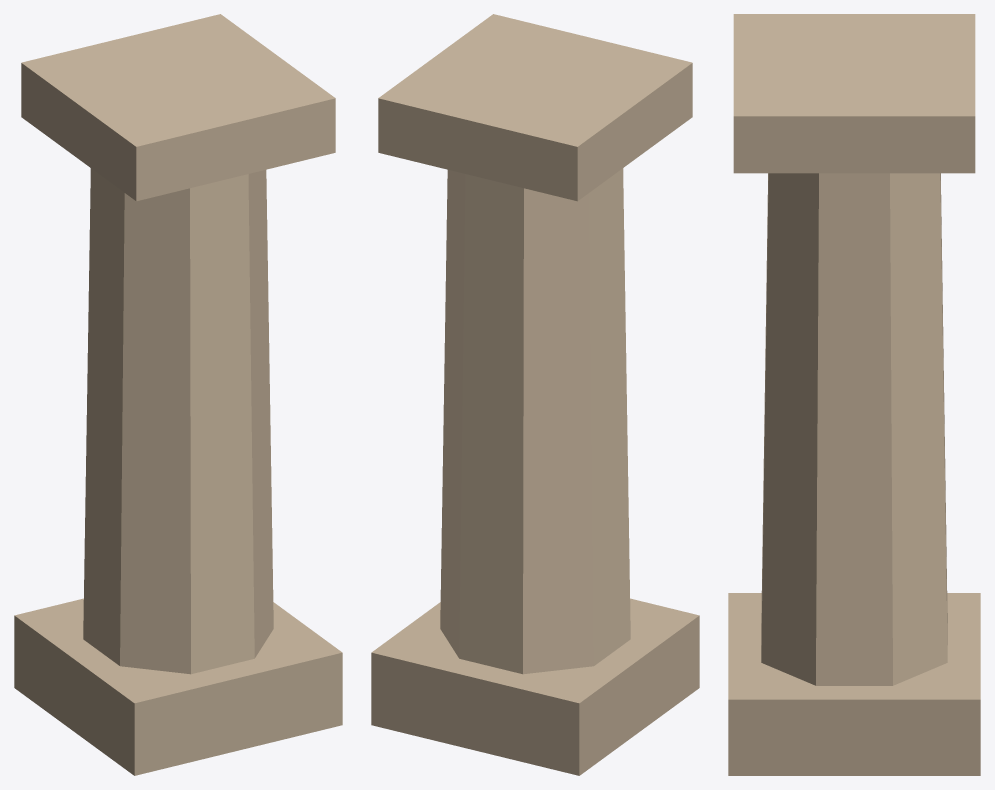
File: pillar_sandstone_pieces.glb
3 renders of one model, left to right at view 1: azimuth 30°, elevation 25°; view 2: azimuth 150°, elevation 25°; view 3: azimuth 270°, elevation 25°, orthographic. The views are drawn at different scales.
Visible parts, largest first — view 1: pillar_sandstone_piece_14, pillar_sandstone_piece_11, pillar_sandstone_piece_0, pillar_sandstone_piece_6, pillar_sandstone_piece_7, pillar_sandstone_piece_9, pillar_sandstone_piece_12, pillar_sandstone_piece_1, pillar_sandstone_piece_4, pillar_sandstone_piece_3, pillar_sandstone_piece_8, pillar_sandstone_piece_5 (+2 smaller); view 2: pillar_sandstone_piece_14, pillar_sandstone_piece_12, pillar_sandstone_piece_0, pillar_sandstone_piece_9, pillar_sandstone_piece_8, pillar_sandstone_piece_7, pillar_sandstone_piece_6, pillar_sandstone_piece_10, pillar_sandstone_piece_2, pillar_sandstone_piece_5, pillar_sandstone_piece_1, pillar_sandstone_piece_4 (+3 smaller); view 3: pillar_sandstone_piece_8, pillar_sandstone_piece_1, pillar_sandstone_piece_12, pillar_sandstone_piece_9, pillar_sandstone_piece_5, pillar_sandstone_piece_14, pillar_sandstone_piece_4, pillar_sandstone_piece_7, pillar_sandstone_piece_11, pillar_sandstone_piece_0, pillar_sandstone_piece_2, pillar_sandstone_piece_6 (+1 smaller).
Part boxes in pixels (x1,y1,x2,y2): pillar_sandstone_piece_14: [21, 49, 327, 201]; pillar_sandstone_piece_11: [84, 511, 266, 674]; pillar_sandstone_piece_0: [14, 610, 265, 775]; pillar_sandstone_piece_6: [86, 349, 269, 499]; pillar_sandstone_piece_7: [88, 222, 268, 351]; pillar_sandstone_piece_9: [90, 168, 267, 267]; pillar_sandstone_piece_12: [78, 14, 335, 156]; pillar_sandstone_piece_1: [228, 602, 342, 743]; pillar_sandstone_piece_4: [88, 297, 269, 401]; pillar_sandstone_piece_3: [85, 468, 229, 535]; pillar_sandstone_piece_8: [200, 457, 273, 620]; pillar_sandstone_piece_5: [224, 361, 270, 491]; pillar_sandstone_piece_14: [501, 16, 692, 176]; pillar_sandstone_piece_12: [378, 14, 530, 189]; pillar_sandstone_piece_0: [550, 598, 699, 775]; pillar_sandstone_piece_9: [446, 168, 623, 285]; pillar_sandstone_piece_8: [440, 458, 580, 653]; pillar_sandstone_piece_7: [445, 215, 625, 344]; pillar_sandstone_piece_6: [462, 359, 627, 495]; pillar_sandstone_piece_10: [456, 543, 600, 674]; pillar_sandstone_piece_2: [429, 657, 563, 768]; pillar_sandstone_piece_5: [443, 349, 579, 502]; pillar_sandstone_piece_1: [371, 602, 463, 747]; pillar_sandstone_piece_4: [444, 294, 626, 378]; pillar_sandstone_piece_8: [762, 459, 947, 685]; pillar_sandstone_piece_1: [728, 649, 980, 775]; pillar_sandstone_piece_12: [733, 43, 975, 173]; pillar_sandstone_piece_9: [767, 173, 941, 305]; pillar_sandstone_piece_5: [764, 359, 944, 505]; pillar_sandstone_piece_14: [733, 14, 975, 111]; pillar_sandstone_piece_4: [765, 305, 943, 400]; pillar_sandstone_piece_7: [766, 217, 942, 334]; pillar_sandstone_piece_11: [761, 503, 796, 674]; pillar_sandstone_piece_0: [728, 593, 980, 655]; pillar_sandstone_piece_2: [945, 603, 980, 670]; pillar_sandstone_piece_6: [764, 327, 943, 459].
Size of the model in its own units: 1.2 by 3.45 by 1.2.
